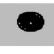correct: (15, 10, 46, 34)
